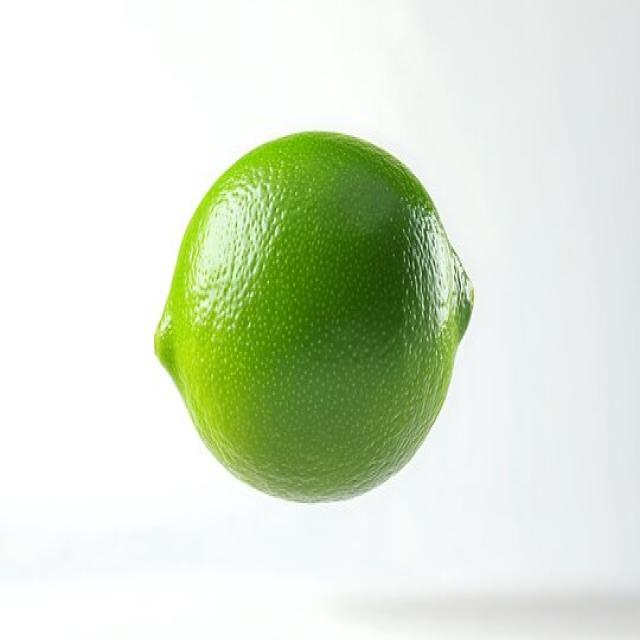Lemon: (153, 128, 474, 503)
